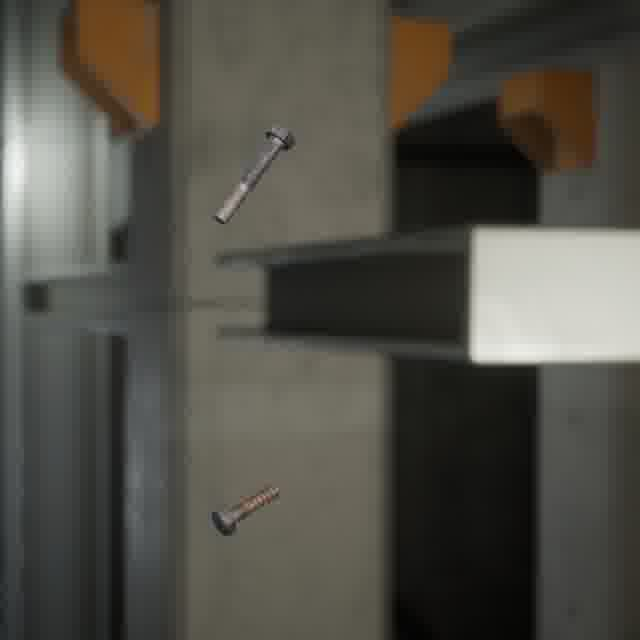bolt: (209, 119, 300, 229), (207, 480, 284, 540)
